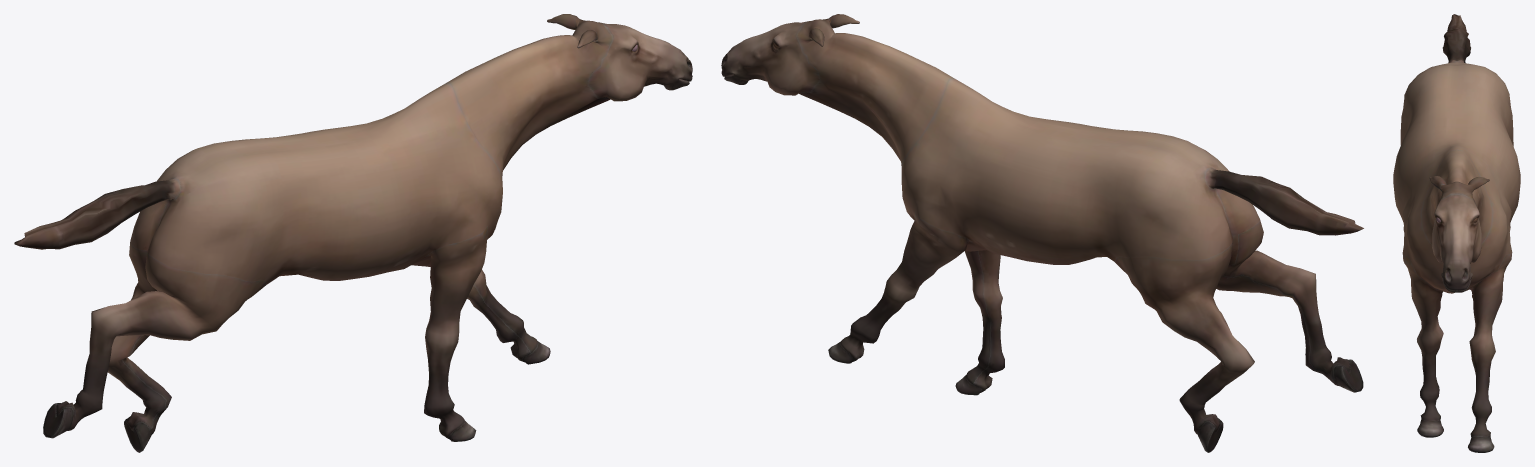
Rendered from horse-run-lite.glb.
3 views of the same model, side by side, from view 1: azimuth 30°, elevation 25°; view 2: azimuth 150°, elevation 25°; view 3: azimuth 270°, elevation 25° (orthographic). The views are drawn at different scales.
Visible parts, largest first — view 1: polySurface10Shape; view 2: polySurface10Shape; view 3: polySurface10Shape.
Boxes of the visible parts, box(x1,y1,x2,y2) form: polySurface10Shape: box(14, 14, 692, 452); polySurface10Shape: box(721, 14, 1363, 452); polySurface10Shape: box(1393, 14, 1520, 452).
Bounding box in the file's own units: 33.1 × 17.21 × 6.42.
Materials: 1 (1 with a texture image).
